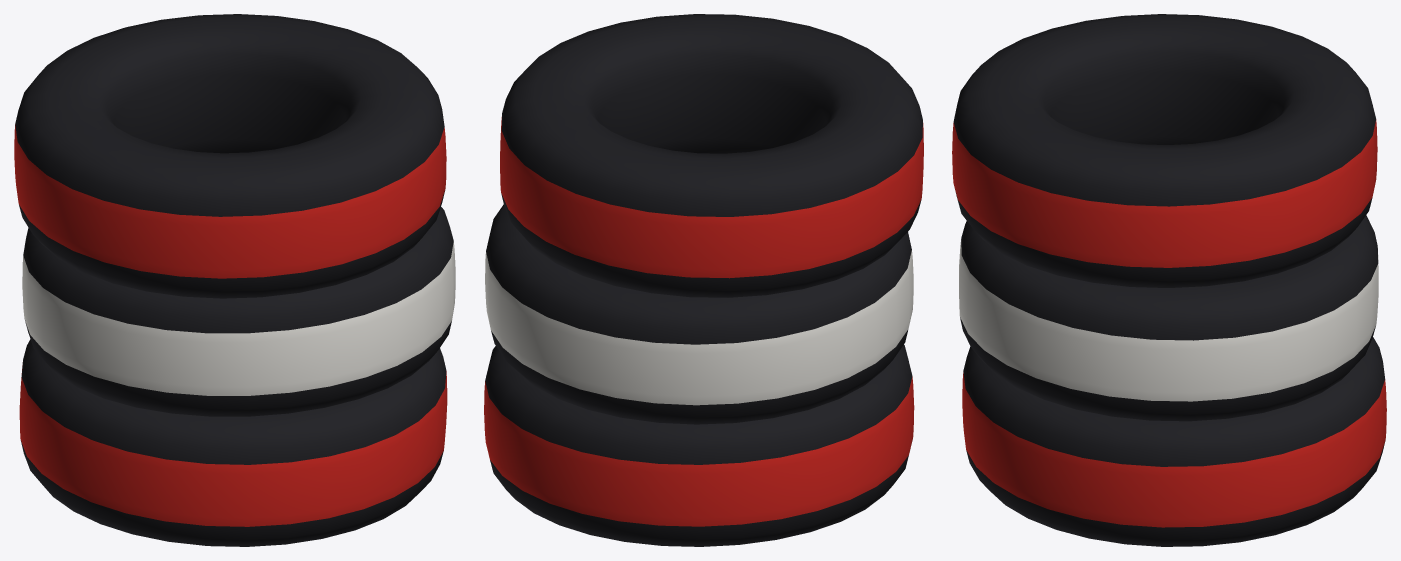
Rendered from tire_stack.glb.
The picture shows the model from 3 angles, left to right: view 1: azimuth 30°, elevation 25°; view 2: azimuth 150°, elevation 25°; view 3: azimuth 270°, elevation 25°; orthographic projection.
Visible parts, largest first — view 1: tire_stack; view 2: tire_stack; view 3: tire_stack.
Part boxes in pixels (bbox=[...]): tire_stack: bbox=[14, 14, 455, 546]; tire_stack: bbox=[484, 14, 923, 546]; tire_stack: bbox=[952, 14, 1386, 546].
Size of the model in its own units: 0.6244 by 0.5967 by 0.6199.
